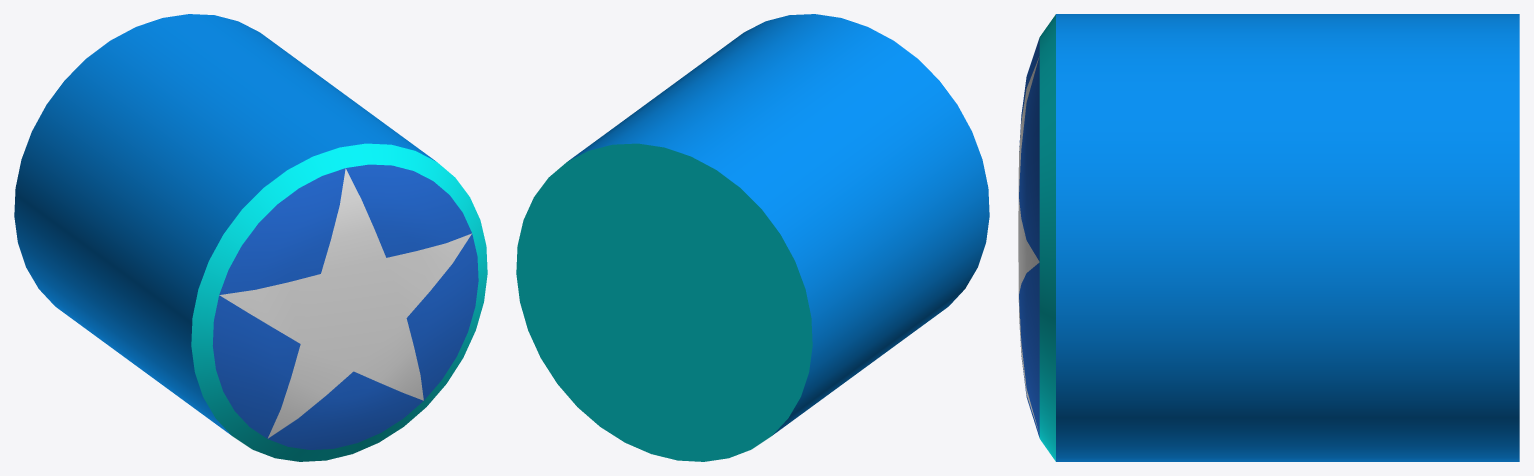
The model's file is D_FBX_06_Bumper_03_B.fbx.
3 renders of one model, left to right at view 1: azimuth 30°, elevation 25°; view 2: azimuth 150°, elevation 25°; view 3: azimuth 270°, elevation 25°, orthographic. The views are drawn at different scales.
Visible parts, largest first — view 1: D_FBX_06_Bumper_03_B; view 2: D_FBX_06_Bumper_03_B; view 3: D_FBX_06_Bumper_03_B.
Boxes of the visible parts, x1,y1,x2,y2 form: D_FBX_06_Bumper_03_B: [14, 14, 487, 461]; D_FBX_06_Bumper_03_B: [516, 14, 989, 461]; D_FBX_06_Bumper_03_B: [1018, 14, 1519, 461].
Bounding box in the file's own units: 1.89 × 1.89 × 2.12.
